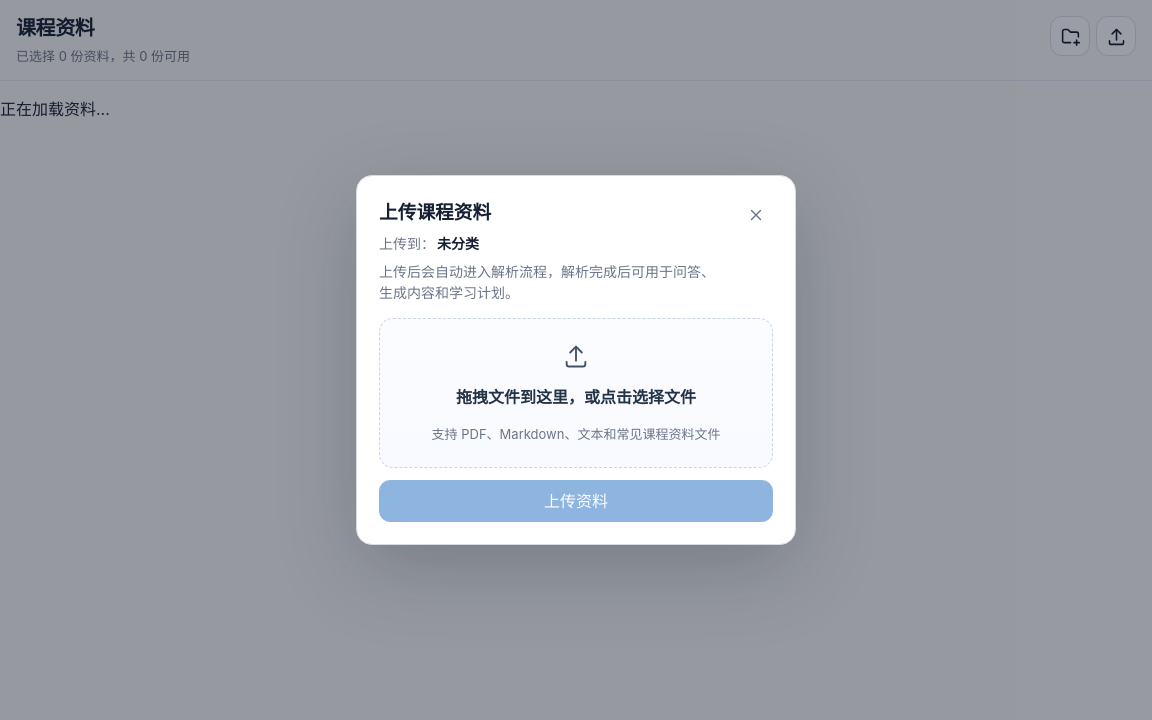
MaterialWorkspace › opens a drag-and-drop upload prompt with a close button when requested by the course creation flow
The image size is (1152, 720).
Expected: the text "拖拽文件到这里，或点击选择文件" is shown, [456,384,696,409]
Expected: the text "上传后会自动进入解析流程，解析完成后可用于问答、生成内容和学习计划。" is shown, [379,261,723,304]
Click the button named "关闭上传资料弹窗" at point(756, 215), box [739,198,773,232]
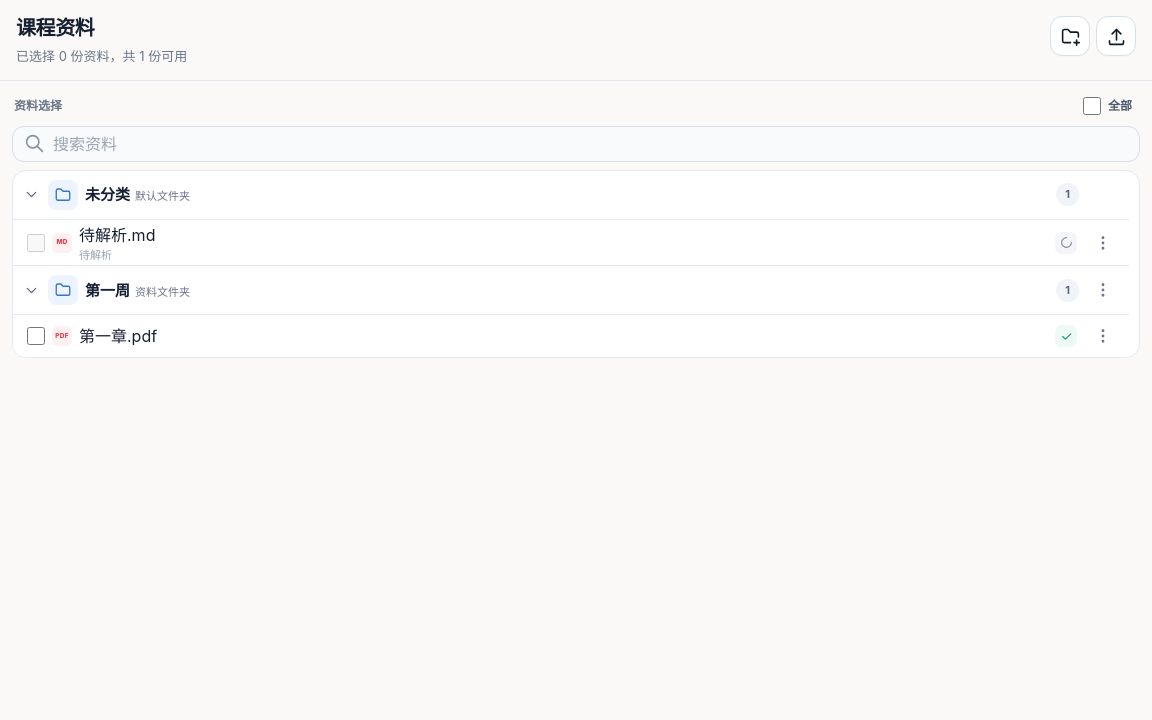
Expected: the heading "上传课程资料" is gone
